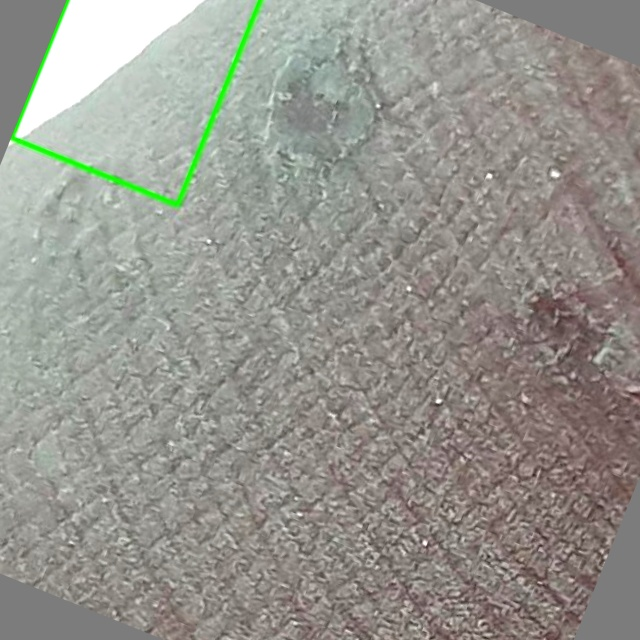Contact Dermatitis: (11, 0, 260, 206)
